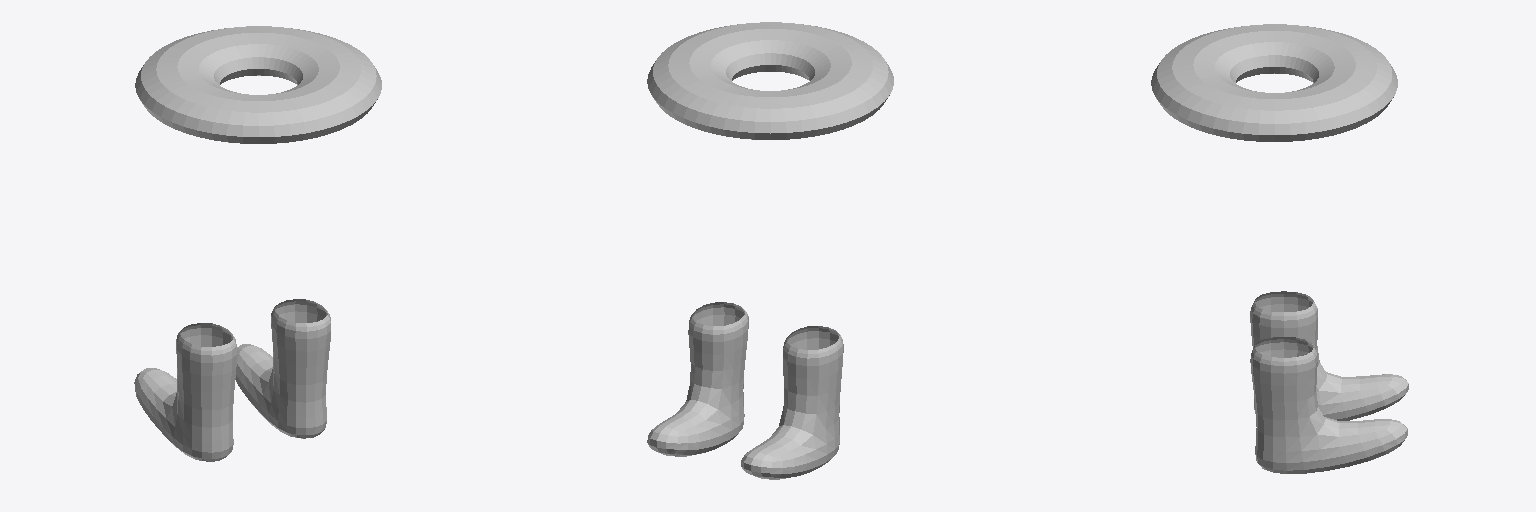
File: G+JShip(yellow).obj
3 views of the same model, side by side, from view 1: azimuth 30°, elevation 25°; view 2: azimuth 150°, elevation 25°; view 3: azimuth 270°, elevation 25° (orthographic).
Parts seen in each view (by area): view 1: yellow_Cube.007; view 2: yellow_Cube.007; view 3: yellow_Cube.007.
Part boxes in pixels (left/top/right/bottom): yellow_Cube.007: left=134, top=26, right=381, bottom=461; yellow_Cube.007: left=647, top=22, right=893, bottom=479; yellow_Cube.007: left=1151, top=24, right=1408, bottom=473.
Size of the model in its own units: 2.35 by 4.01 by 2.45.